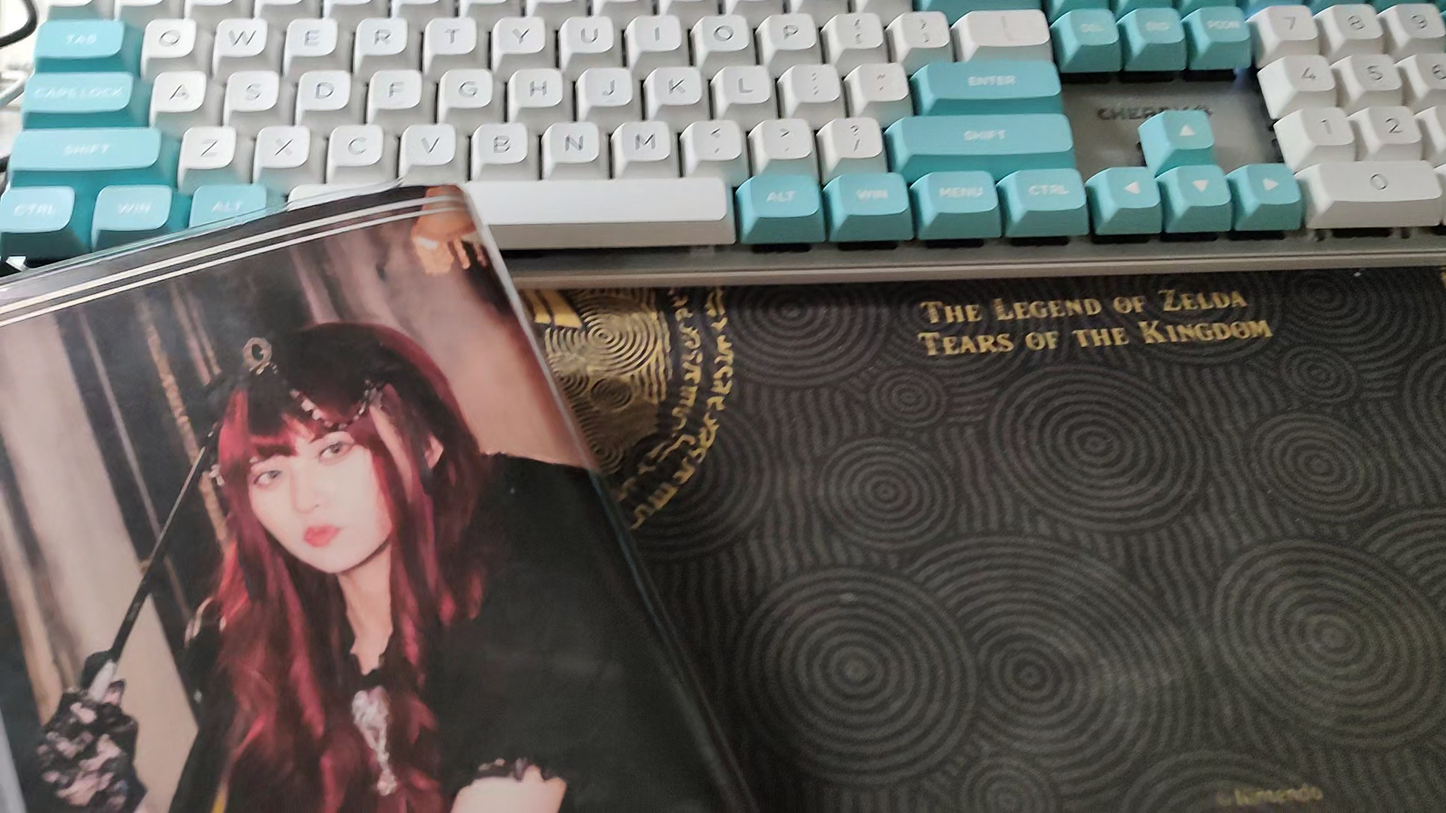Photo_book: (0, 181, 776, 813)
